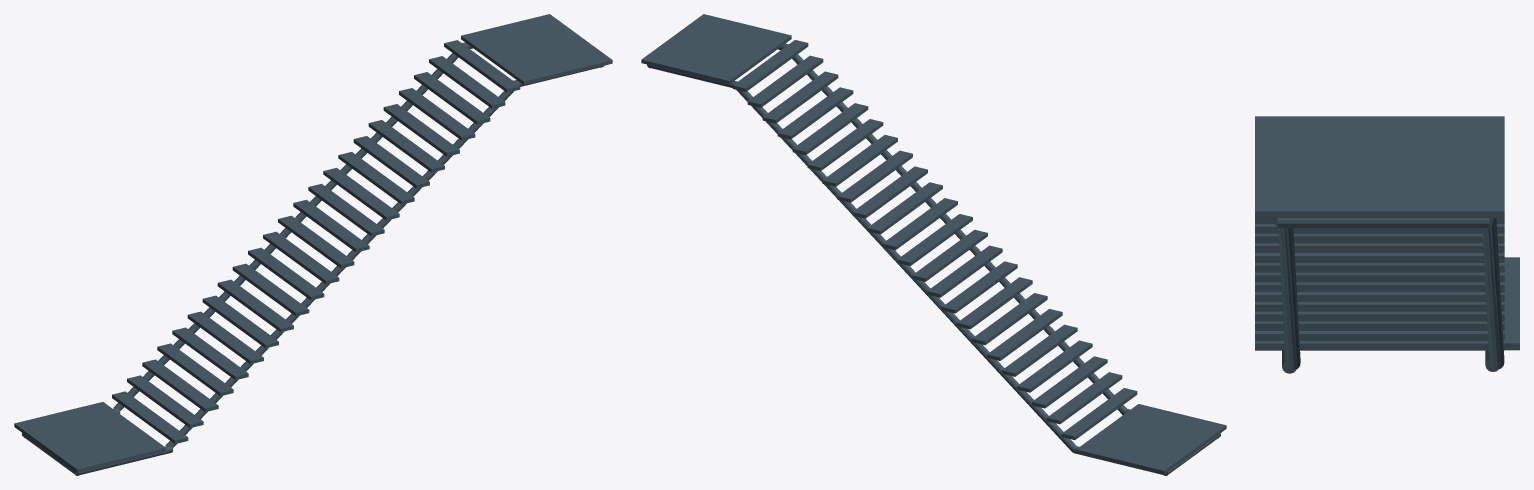
The model's file is Stair case sans collision.glb.
3 views of the same model, side by side, from view 1: azimuth 30°, elevation 25°; view 2: azimuth 150°, elevation 25°; view 3: azimuth 270°, elevation 25° (orthographic). The views are drawn at different scales.
Parts seen in each view (by area): view 1: group909186897, group1902687767, group92132964, group1723525818, group1990299698, group2014138159, group1485357491, group590486525, group104557017, group394649199, group2054199299, group1152531768 (+15 smaller); view 2: group909186897, group1902687767, group1723525818, group92132964, group1485357491, group2014138159, group1990299698, group590486525, group1808820538, group303345618, group2018382538, group1584530293 (+15 smaller); view 3: group909186897, group1485357491, group80279028, group1723525818, group1738013377, group303345618, group2014138159, group766336675, group9910309, group1808820538, group92132964, group394649199 (+9 smaller).
Part boxes in pixels (x1,y1,x2,y2): group909186897: [461, 14, 612, 84]; group1902687767: [14, 402, 165, 472]; group92132964: [165, 91, 514, 447]; group1723525818: [113, 43, 462, 410]; group1990299698: [217, 279, 293, 332]; group2014138159: [172, 327, 248, 380]; group1485357491: [444, 40, 520, 92]; group590486525: [383, 104, 459, 156]; group104557017: [293, 199, 369, 252]; group394649199: [248, 247, 324, 300]; group2054199299: [127, 375, 203, 427]; group1152531768: [188, 311, 263, 364]; group909186897: [641, 14, 791, 84]; group1902687767: [1076, 404, 1226, 474]; group1723525818: [736, 89, 1077, 452]; group92132964: [792, 54, 1127, 414]; group1485357491: [732, 40, 808, 91]; group2014138159: [1002, 324, 1077, 376]; group1990299698: [957, 277, 1032, 329]; group590486525: [793, 103, 868, 154]; group1808820538: [1061, 388, 1136, 439]; group303345618: [942, 261, 1017, 313]; group2018382538: [852, 166, 927, 218]; group1584530293: [897, 214, 972, 265]; group909186897: [1255, 125, 1504, 218]; group1485357491: [1255, 116, 1504, 125]; group80279028: [1255, 311, 1504, 321]; group1723525818: [1482, 218, 1504, 369]; group1738013377: [1255, 282, 1504, 291]; group303345618: [1255, 263, 1504, 272]; group2014138159: [1255, 302, 1504, 311]; group766336675: [1255, 321, 1504, 330]; group9910309: [1255, 243, 1504, 252]; group1808820538: [1255, 341, 1504, 350]; group92132964: [1278, 228, 1300, 370]; group394649199: [1255, 253, 1504, 262].
Size of the model in its own units: 3.17 by 1.67 by 0.69.
